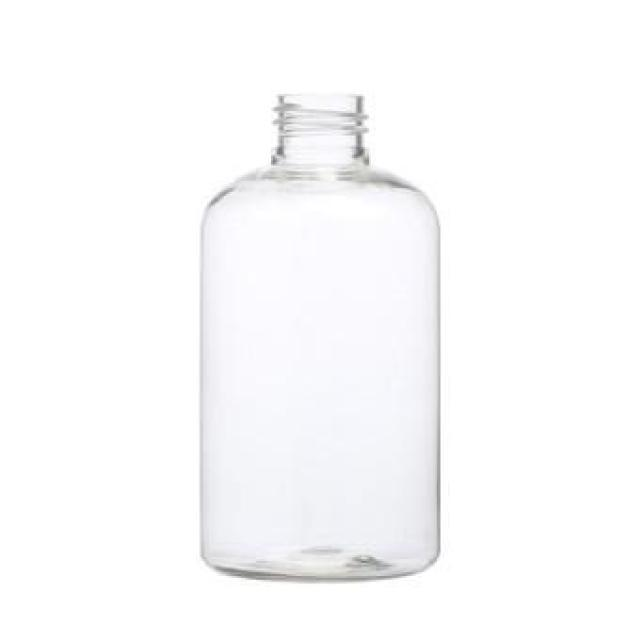bottle: (202, 92, 442, 580)
